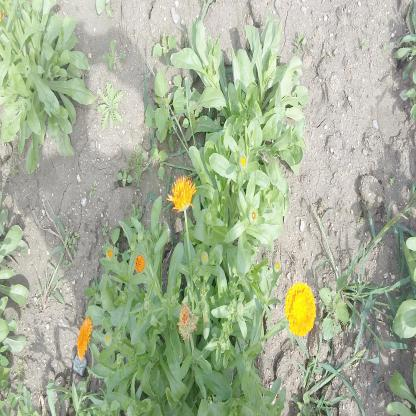marigold: (284, 281, 316, 337), (166, 174, 196, 215), (76, 316, 93, 360)
